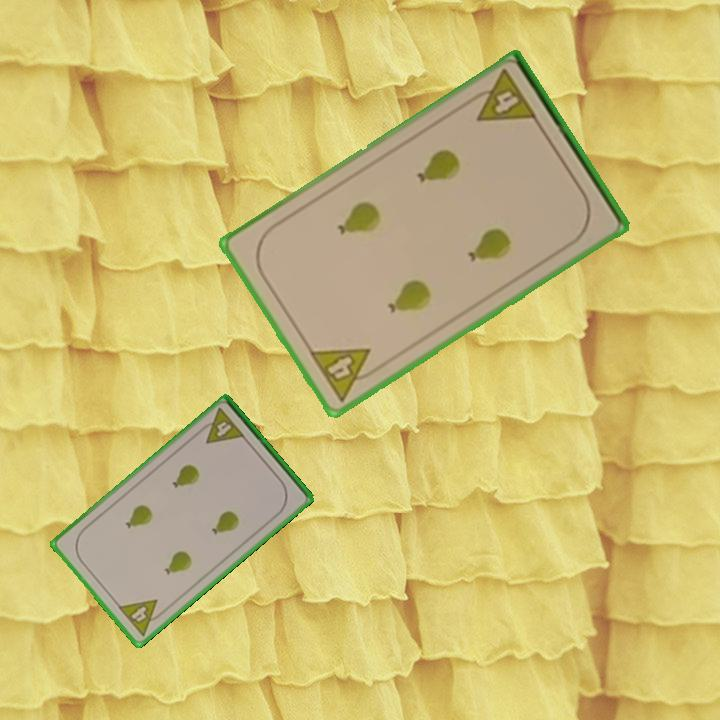4p: (305, 344, 384, 405), (464, 66, 540, 126), (114, 596, 169, 639), (195, 405, 248, 447)
